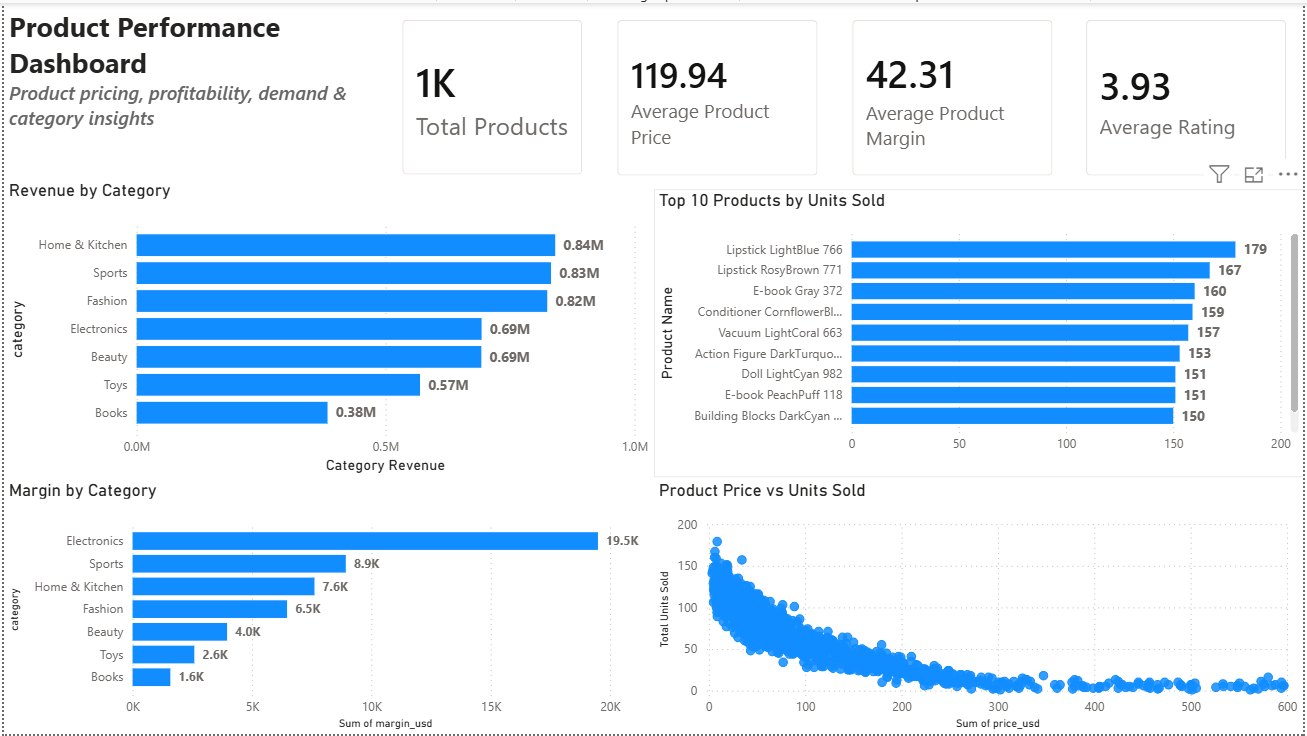

The page's visual inventory and layout, read from the dashboard file:
{"tool":"powerbi","page":{"name":"Product Analysis","canvas":[1280,720],"ordinal":1},"visuals":[{"type":"cardVisual","fields":{"Data":["retail_sales_analytics product.Average Product Price"]},"box":[587.1,0,231.4,187.1],"z":0},{"type":"cardVisual","fields":{"Data":["retail_sales_analytics reviews.Average Rating"]},"box":[1049,0,231.4,187.1],"z":1000},{"type":"cardVisual","fields":{"Data":["retail_sales_analytics product.Average Product Margin"]},"box":[818.1,0,231.4,187.1],"z":2000},{"type":"clusteredBarChart","title":"Revenue by Category","fields":{"Y":["retail_sales_analytics customer.Category Revenue"],"Category":["retail_sales_analytics product.category"]},"box":[0,173.9,640,295],"z":3000},{"type":"clusteredBarChart","title":"Top 10 Products by Units Sold","fields":{"Category":["retail_sales_analytics product.product_name"],"Y":["retail_sales_analytics customer.Total Units Sold"]},"box":[640,183.7,640,282.4],"z":4000},{"type":"cardVisual","fields":{"Data":["retail_sales_analytics product.Total Products"]},"box":[375.7,0,211.5,186.4],"z":5000},{"type":"clusteredBarChart","title":"Margin by Category","fields":{"Category":["retail_sales_analytics product.category"],"Y":["Sum(retail_sales_analytics product.margin_usd)"]},"box":[0,468.9,640,251.8],"z":6000},{"type":"scatterChart","title":"Product Price vs Units Sold","fields":{"X":["Sum(retail_sales_analytics product.price_usd)"],"Y":["retail_sales_analytics customer.Total Units Sold"],"Category":["retail_sales_analytics product.product_name"]},"box":[640,468.9,640,251.8],"z":7000},{"type":"textbox","box":[0,0,375.7,173.9],"z":8000}]}

Visuals, with their boxes in screenshot pixels (x1, y1, x2, y2), scaled from the page's 1280x720 canvas onto the 1307x736 screenshot:
cardVisual - retail_sales_analytics product.Average Product Price: l=599, t=0, r=836, b=191
cardVisual - retail_sales_analytics reviews.Average Rating: l=1071, t=0, r=1306, b=191
cardVisual - retail_sales_analytics product.Average Product Margin: l=835, t=0, r=1072, b=191
"Revenue by Category" clusteredBarChart: l=0, t=178, r=654, b=479
"Top 10 Products by Units Sold" clusteredBarChart: l=654, t=188, r=1306, b=476
cardVisual - retail_sales_analytics product.Total Products: l=384, t=0, r=600, b=191
"Margin by Category" clusteredBarChart: l=0, t=479, r=654, b=735
"Product Price vs Units Sold" scatterChart: l=654, t=479, r=1306, b=735
textbox: l=0, t=0, r=384, b=178
